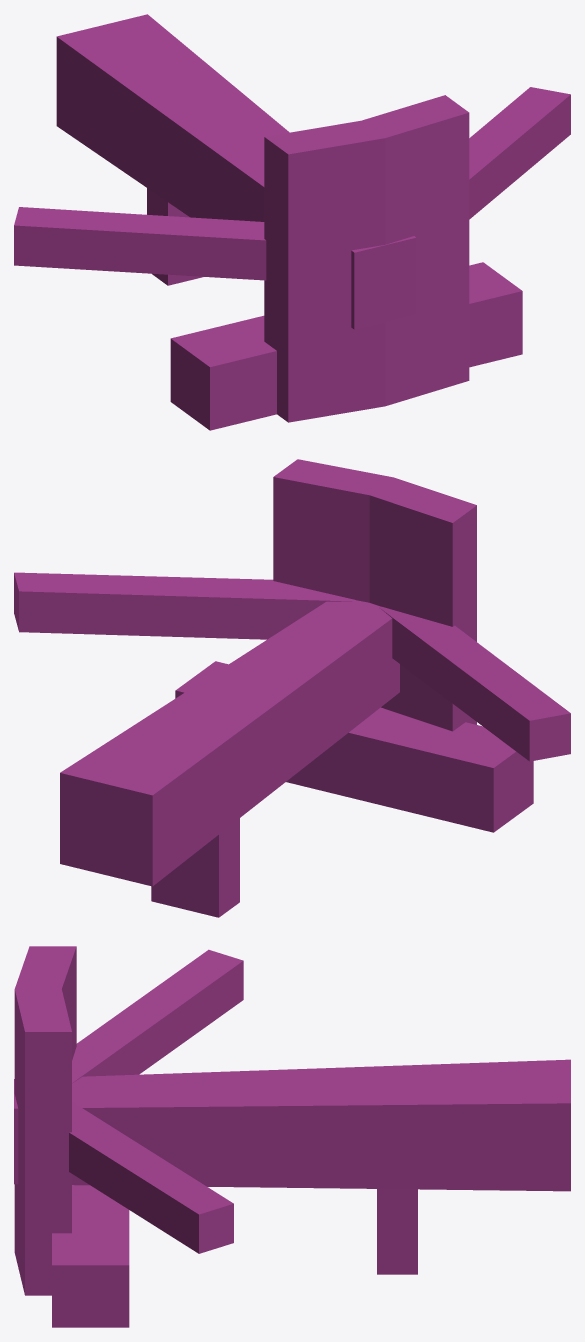
File: SM_Veh_Ballista_01_Collision.fbx
3 views of the same model, one above another, from view 1: azimuth 30°, elevation 25°; view 2: azimuth 150°, elevation 25°; view 3: azimuth 270°, elevation 25° (orthographic). The views are drawn at different scales.
Parts seen in each view (by area): view 1: SM_Veh_Ballista_01_Collision; view 2: SM_Veh_Ballista_01_Collision; view 3: SM_Veh_Ballista_01_Collision.
Part boxes in pixels (x1,y1,x2,y2): SM_Veh_Ballista_01_Collision: [14, 14, 570, 430]; SM_Veh_Ballista_01_Collision: [14, 459, 570, 917]; SM_Veh_Ballista_01_Collision: [14, 946, 570, 1327].
Bounding box in the file's own units: 307 × 146 × 273.
